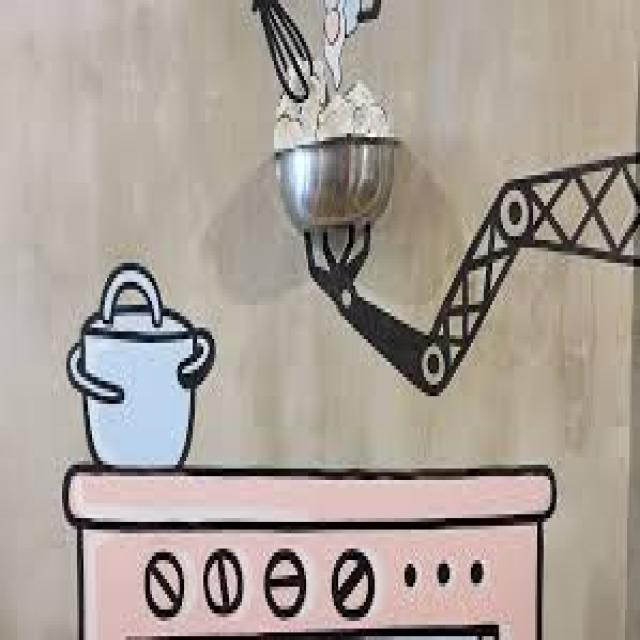-: (63, 263, 557, 640), (252, 0, 640, 400)
